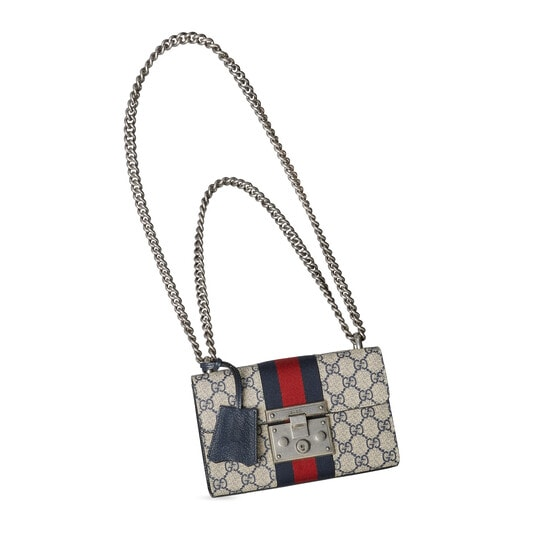Gucci: (177, 287, 409, 512), (250, 356, 319, 491), (328, 356, 389, 467)
